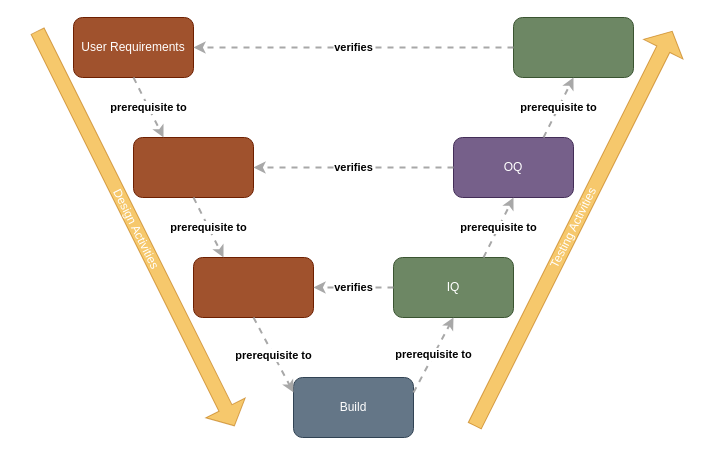
Some shapes in this 710 by 455 pixel diagram are drawn without their labels. Each missing label, with the centre of its shape:
"Design Specifications" belongs at point (253, 287).
"Functional Specifications" belongs at point (193, 167).
"PQ" belongs at point (573, 47).
